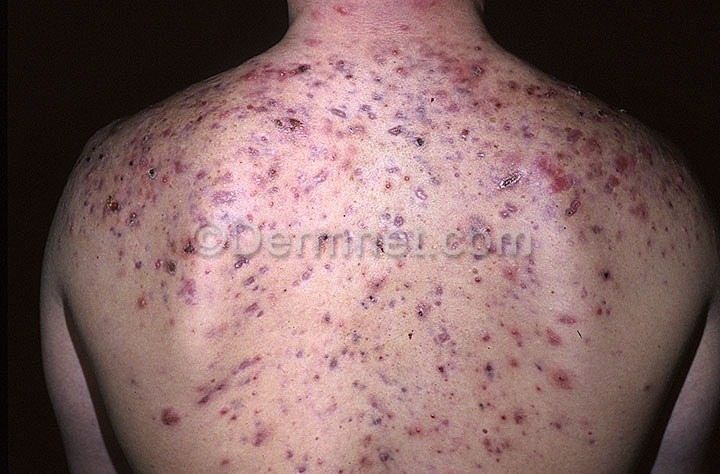Acne: (100, 34, 685, 472)
